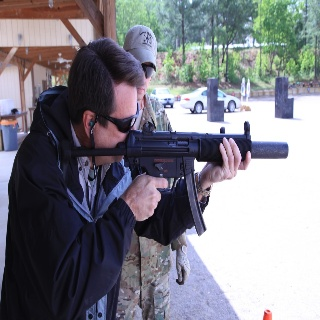rifle: (59, 118, 291, 235)
